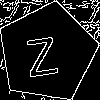Z: (22, 27, 60, 77)
